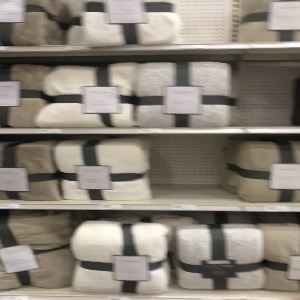void: (149, 136, 237, 201), (233, 53, 300, 125), (178, 1, 239, 44)
